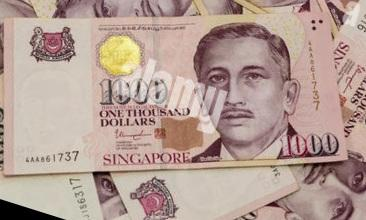1000SingaporeDollar: (7, 19, 338, 169)
